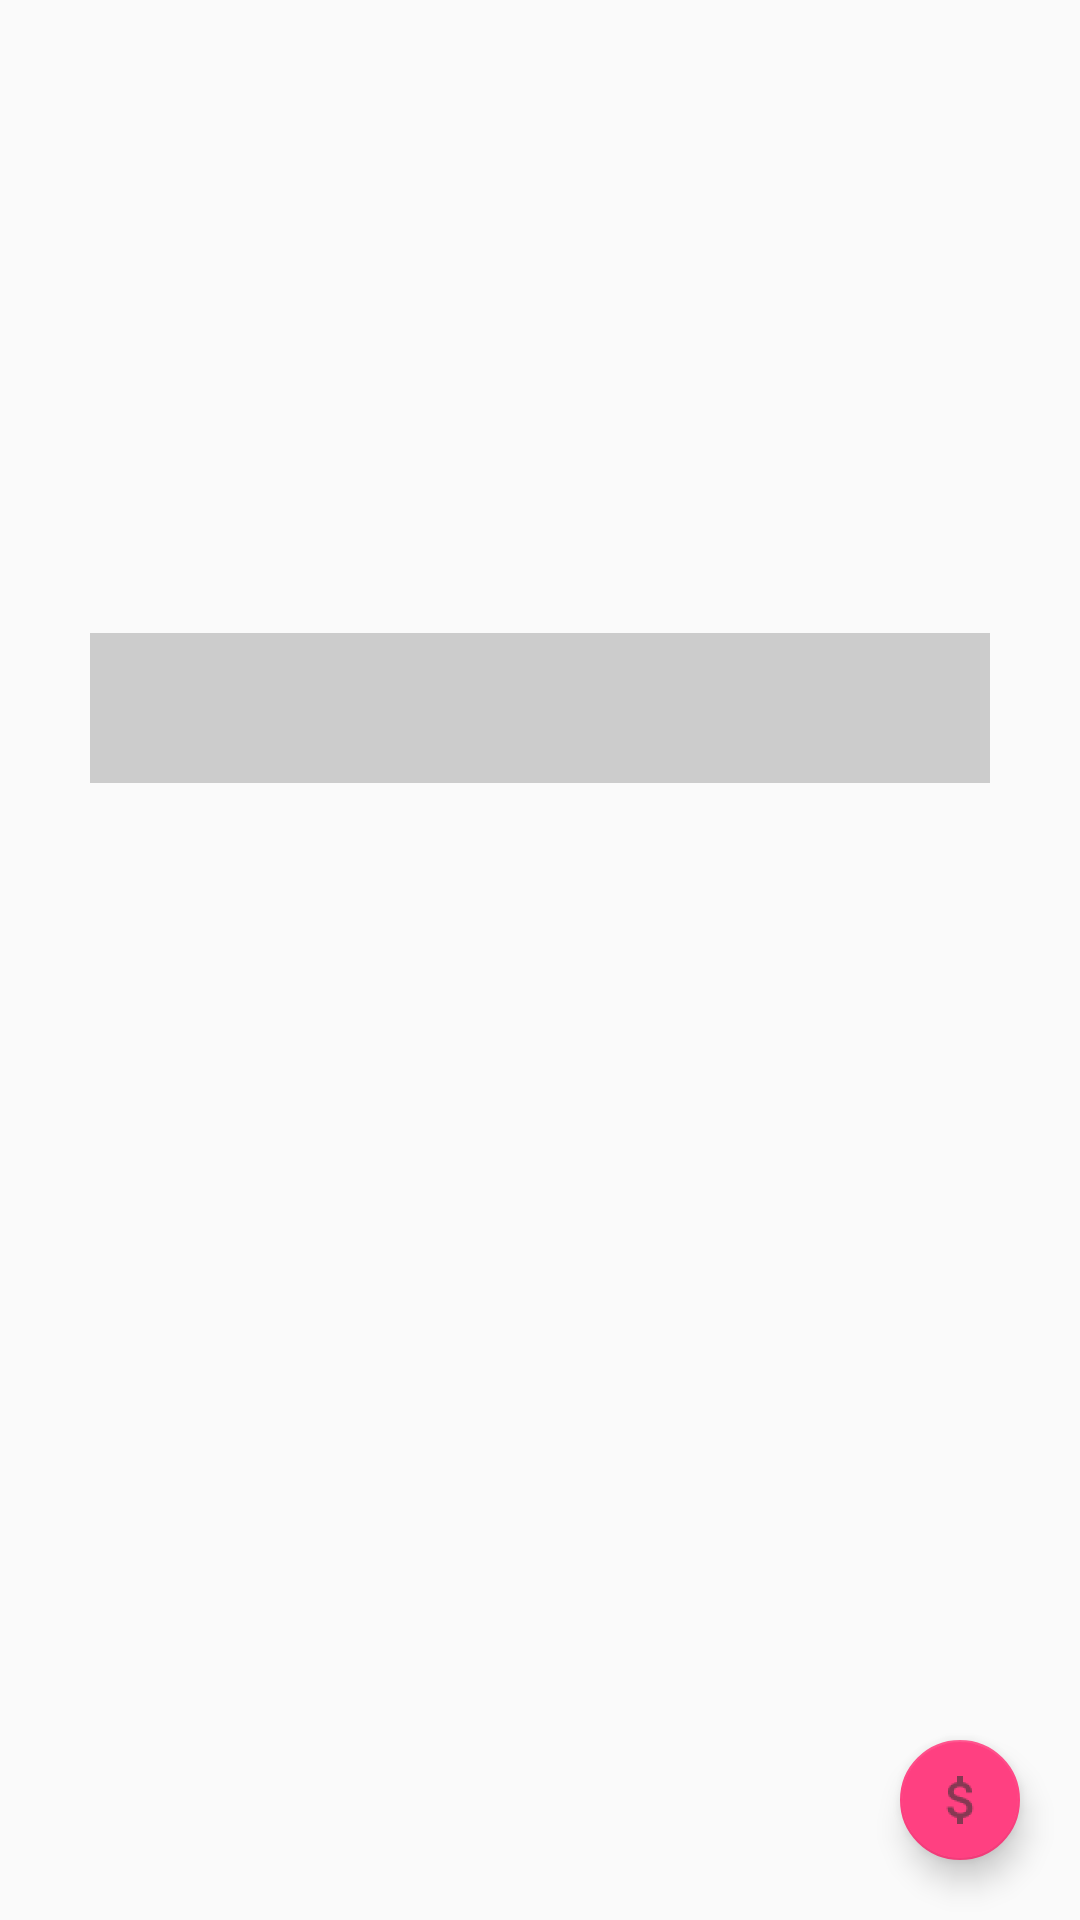

Icons on this 1080 x 1920 Android screen, each with the point to tap as [x,y]:
budget planner: [960,1800]
